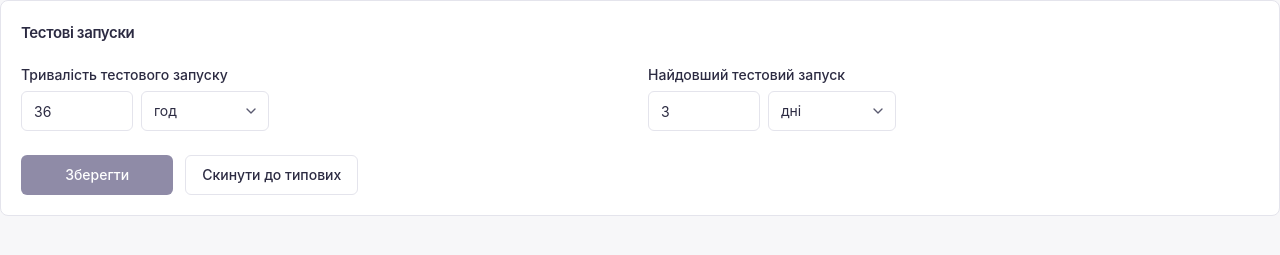
it: LimitSettingsCard › shows a server error that names a field under that field
The width and height of the screenshot is (1280, 255).
Replace the text in the field labelled "Найдовший тестовий запуск" with "5": point(704, 111) [648,91,760,131]
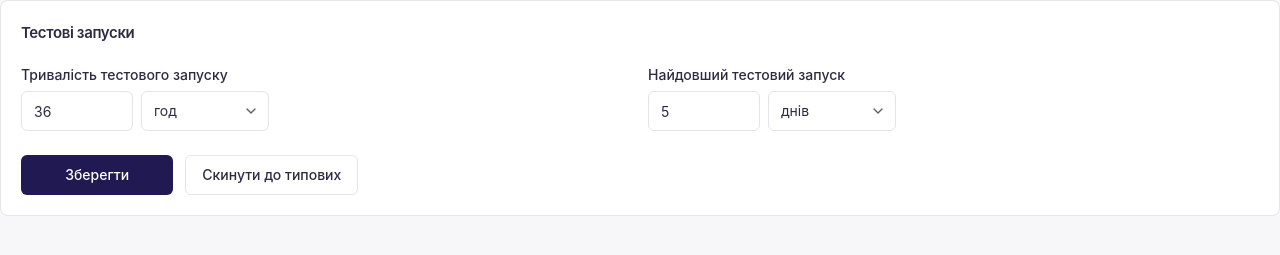
Click the button "Зберегти": point(97, 175) [21,155,173,195]
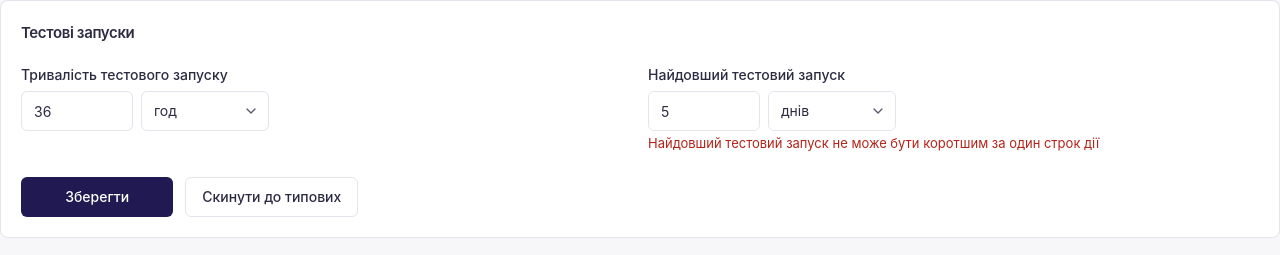
Expected: the message reads "Найдовший тестовий запуск не може бути коротшим за один строк дії", [648,135,1099,151]
